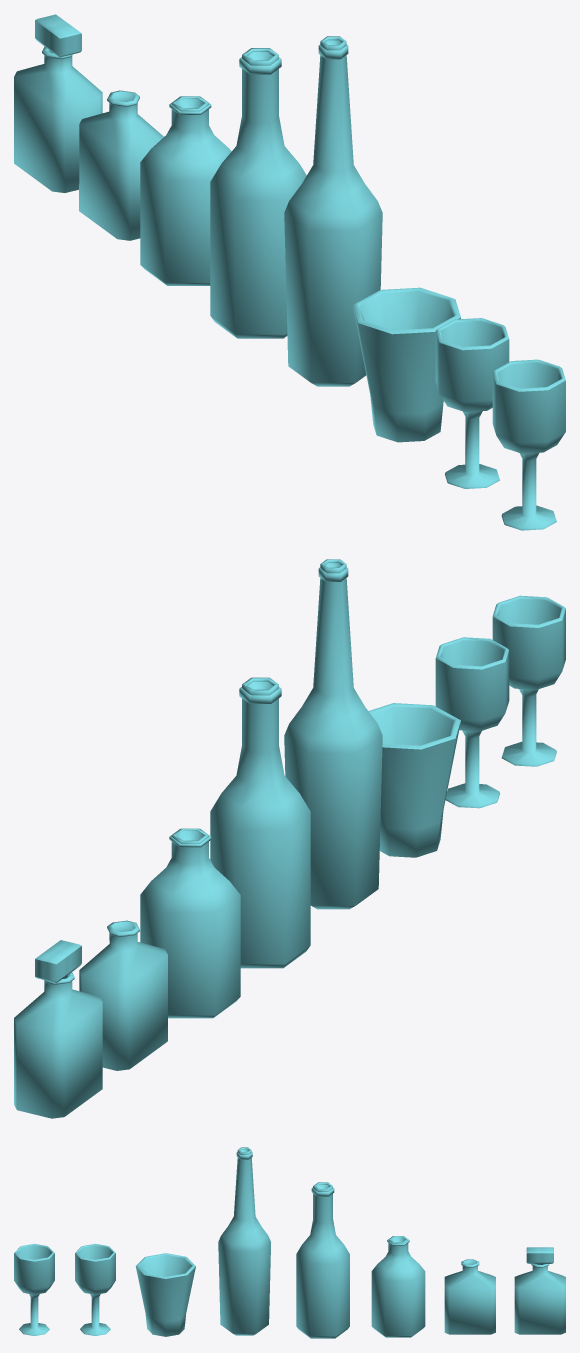
File: GlassNBottles_mesh.fbx
3 renders of one model, top to bottom at view 1: azimuth 30°, elevation 25°; view 2: azimuth 150°, elevation 25°; view 3: azimuth 270°, elevation 25°, orthographic. The views are drawn at different scales.
Visible parts, largest first — view 1: WineBottle, Bottle01, Bottle02, Schooner, WhiskeyBottle, Square Bottle, WineGlassFull, WineGlassEmpty; view 2: WineBottle, Bottle01, Bottle02, WhiskeyBottle, Schooner, Square Bottle, WineGlassEmpty, WineGlassFull; view 3: WineBottle, Bottle01, Bottle02, Schooner, WhiskeyBottle, Square Bottle, WineGlassEmpty, WineGlassFull.
Part boxes in pixels (x1,y1,x2,y2): WineBottle: [284, 36, 382, 386]; Bottle01: [210, 48, 306, 338]; Bottle02: [140, 96, 231, 285]; Schooner: [352, 287, 460, 442]; WhiskeyBottle: [14, 14, 102, 192]; Square Bottle: [79, 90, 163, 240]; WineGlassFull: [492, 359, 565, 530]; WineGlassEmpty: [435, 318, 509, 488]; WineBottle: [284, 559, 382, 909]; Bottle01: [210, 677, 310, 968]; Bottle02: [140, 828, 240, 1018]; WhiskeyBottle: [14, 940, 102, 1118]; Schooner: [368, 703, 460, 857]; Square Bottle: [79, 920, 167, 1070]; WineGlassEmpty: [435, 637, 509, 808]; WineGlassFull: [492, 595, 565, 766]; WineBottle: [218, 1147, 270, 1335]; Bottle01: [296, 1182, 349, 1338]; Bottle02: [371, 1236, 425, 1337]; Schooner: [135, 1253, 195, 1336]; WhiskeyBottle: [514, 1247, 565, 1334]; Square Bottle: [444, 1259, 495, 1334]; WineGlassEmpty: [75, 1243, 115, 1335]; WineGlassFull: [14, 1243, 54, 1335].
Size of the model in its own units: 24.81 by 81.49 by 227.
